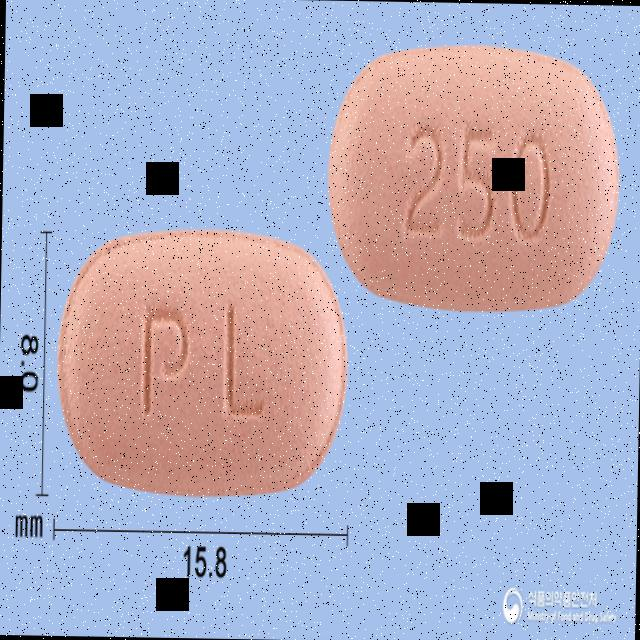Levoxacin -500mg: (328, 42, 622, 314), (54, 228, 350, 498)
